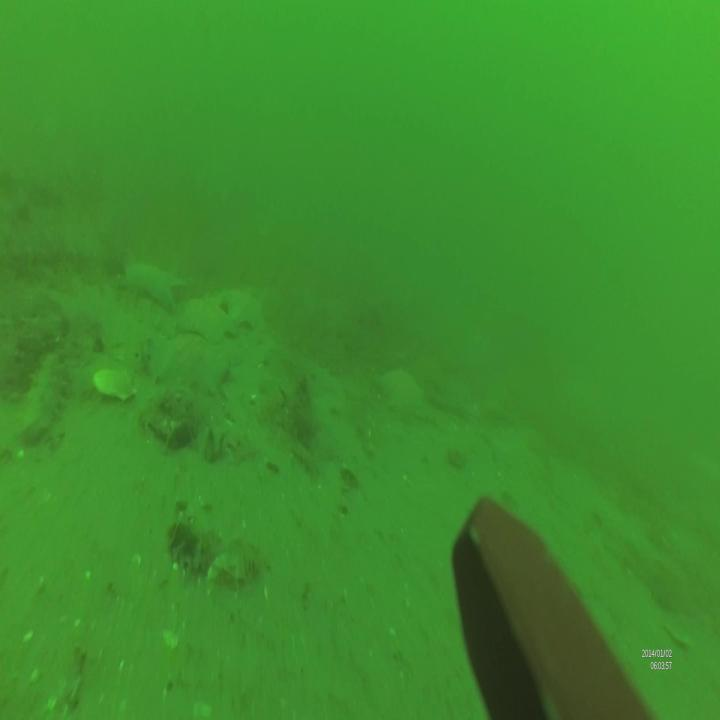holothurian: (18, 332, 84, 460), (1, 302, 66, 399)
scallop: (92, 364, 138, 402)
starfish: (118, 250, 185, 320), (376, 366, 436, 424), (178, 291, 233, 348), (218, 284, 262, 332)
